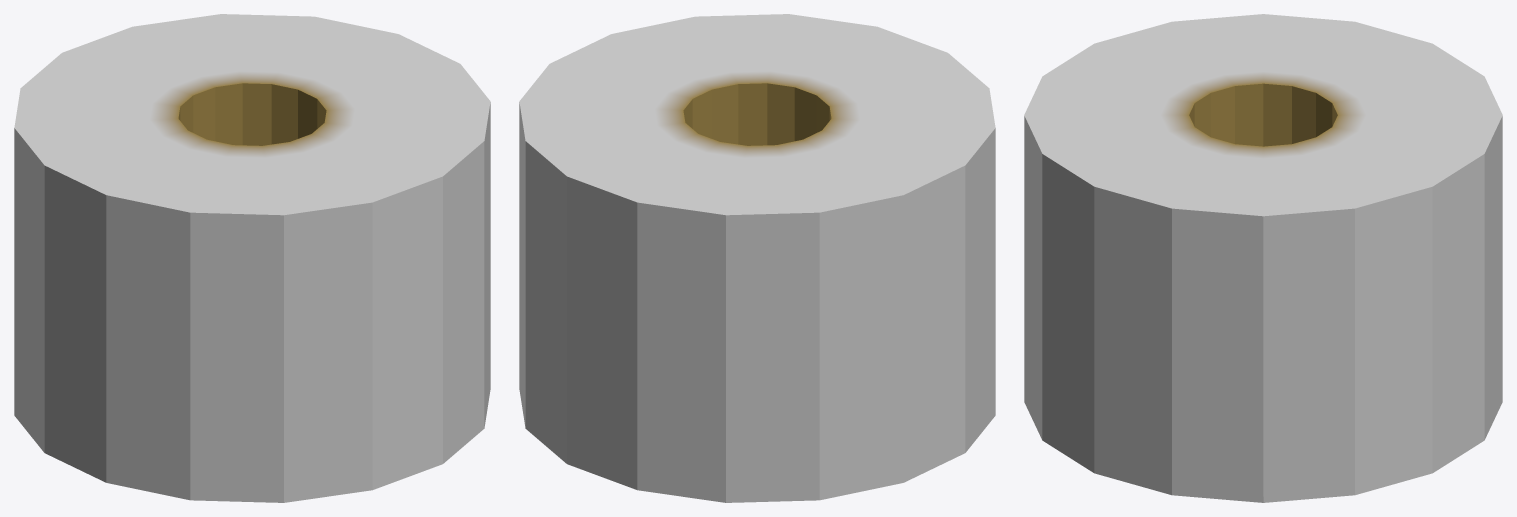
The model's file is item_toilet_paper.glb.
3 views of the same model, side by side, from view 1: azimuth 30°, elevation 25°; view 2: azimuth 150°, elevation 25°; view 3: azimuth 270°, elevation 25° (orthographic).
Parts seen in each view (by area): view 1: ToiletPaper; view 2: ToiletPaper; view 3: ToiletPaper.
Boxes of the visible parts, bbox=[...] form: ToiletPaper: bbox=[14, 14, 490, 502]; ToiletPaper: bbox=[519, 14, 995, 502]; ToiletPaper: bbox=[1024, 14, 1502, 502].
Bounding box in the file's own units: 0.2147 × 0.1419 × 0.2147.
